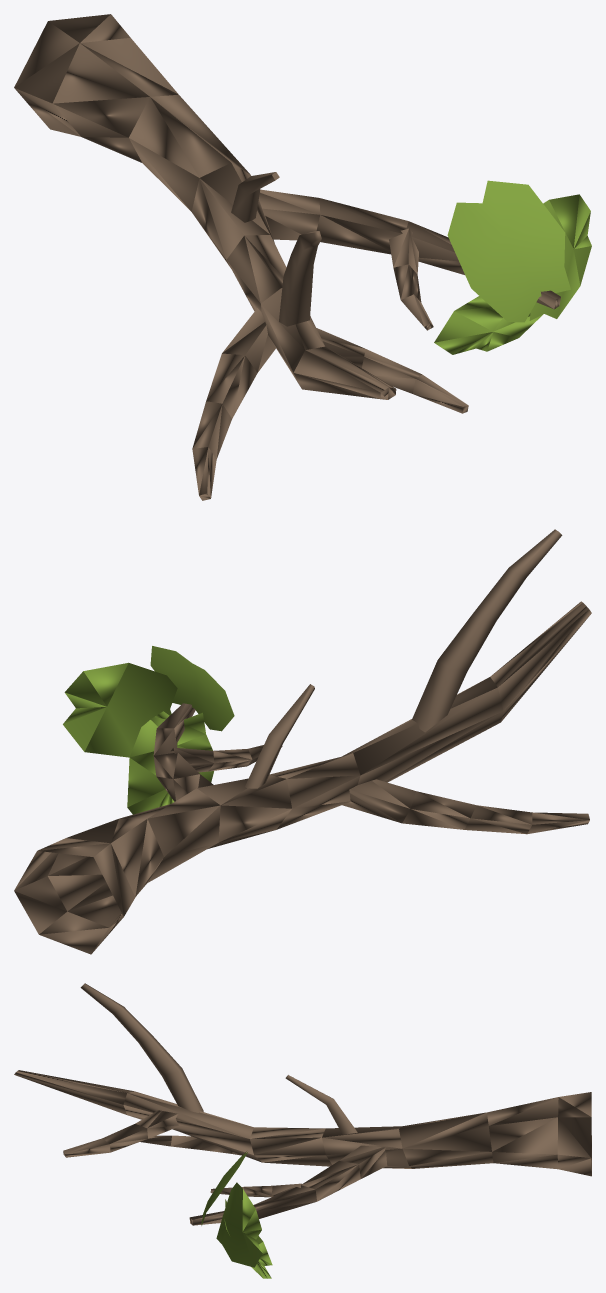
Rendered from Tree_type3.FBX.
The picture shows the model from 3 angles, top to bottom: view 1: azimuth 30°, elevation 25°; view 2: azimuth 150°, elevation 25°; view 3: azimuth 270°, elevation 25°; orthographic projection. The views are drawn at different scales.
Parts seen in each view (by area): view 1: Derevo_type1_01; view 2: Derevo_type1_01; view 3: Derevo_type1_01.
Boxes of the visible parts, <box> form: Derevo_type1_01: <box>14,14,591,500</box>; Derevo_type1_01: <box>14,529,591,954</box>; Derevo_type1_01: <box>14,983,591,1278</box>.
Size of the model in its own units: 210 by 124 by 332.
